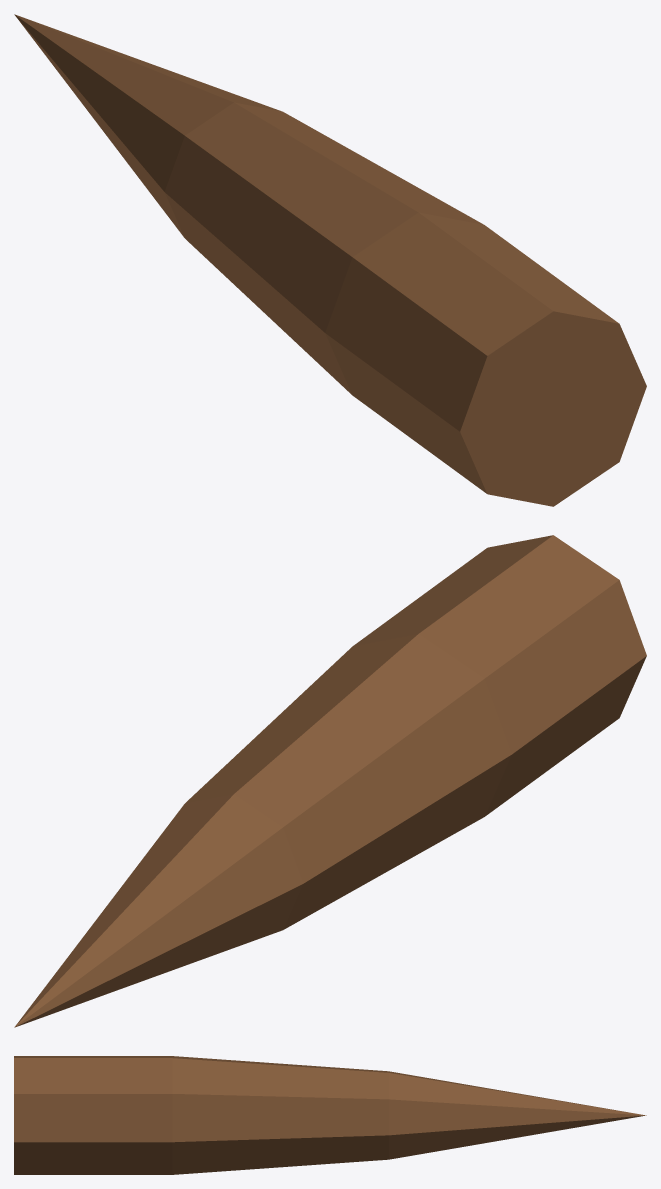
The model's file is wooden_stake.glb.
The picture shows the model from 3 angles, top to bottom: view 1: azimuth 30°, elevation 25°; view 2: azimuth 150°, elevation 25°; view 3: azimuth 270°, elevation 25°; orthographic projection. The views are drawn at different scales.
Parts seen in each view (by area): view 1: Cylinder; view 2: Cylinder; view 3: Cylinder.
Boxes of the visible parts, x1,y1,x2,y2 form: Cylinder: (14, 14, 646, 506); Cylinder: (14, 535, 646, 1027); Cylinder: (14, 1056, 646, 1174).
Bounding box in the file's own units: 0.06 × 0.06 × 0.3.
